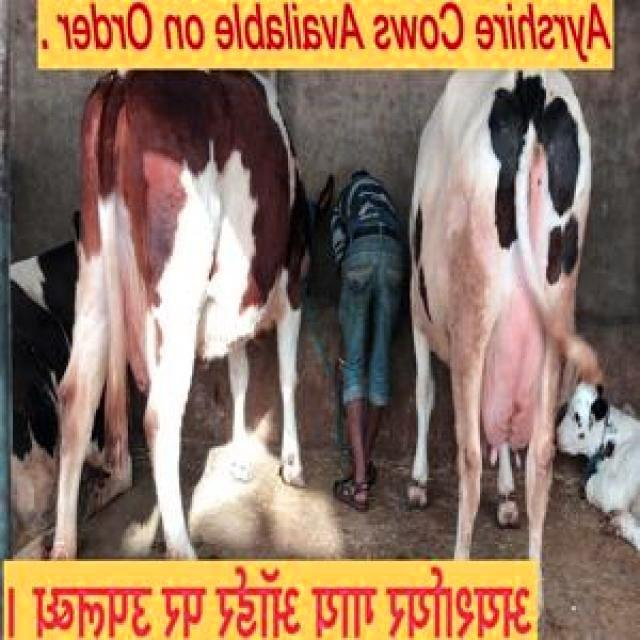cow: (52, 71, 306, 558), (409, 72, 602, 559), (558, 382, 640, 549)
